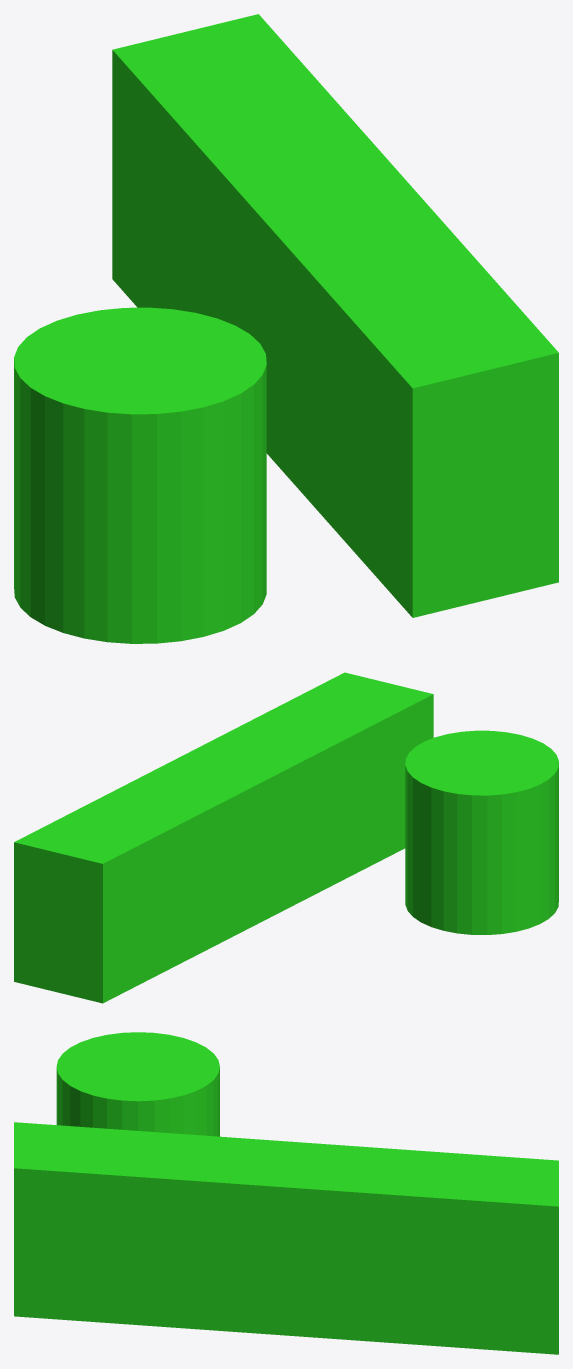
The model's file is heloma_interdigital_externo.gltf.
The picture shows the model from 3 angles, top to bottom: view 1: azimuth 30°, elevation 25°; view 2: azimuth 150°, elevation 25°; view 3: azimuth 270°, elevation 25°; orthographic projection. The views are drawn at different scales.
Visible parts, largest first — view 1: Cube, Cilindro; view 2: Cube, Cilindro; view 3: Cube, Cilindro.
Part boxes in pixels (left/top/right/bottom): Cube: left=112, top=14, right=558, bottom=617; Cilindro: left=14, top=307, right=266, bottom=643; Cube: left=14, top=672, right=433, bottom=1003; Cilindro: left=405, top=730, right=558, bottom=934; Cube: left=14, top=1122, right=558, bottom=1354; Cilindro: left=56, top=1032, right=219, bottom=1136.
Bounding box in the file's own units: 1.51 × 0.6 × 2.
